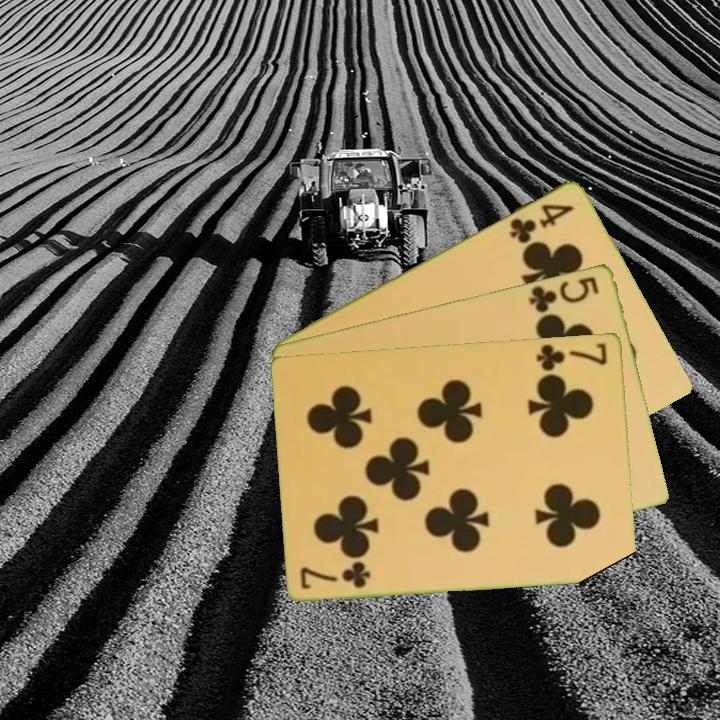4c: (505, 199, 577, 246)
5c: (525, 272, 602, 315)
7c: (533, 339, 611, 374), (297, 559, 373, 591)
